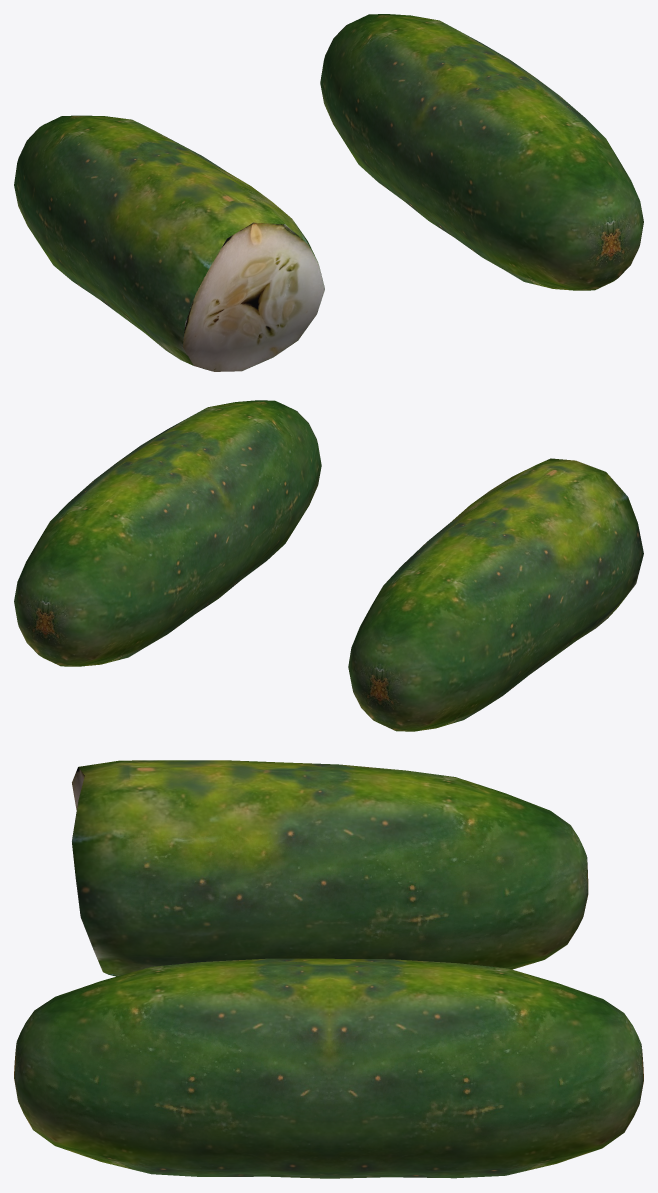
3 views of the same model, one above another, from view 1: azimuth 30°, elevation 25°; view 2: azimuth 150°, elevation 25°; view 3: azimuth 270°, elevation 25° (orthographic). The views are drawn at different scales.
Parts seen in each view (by area): view 1: ModPepinoCompleto, ModPepino; view 2: ModPepinoCompleto, ModPepino; view 3: ModPepinoCompleto, ModPepino.
Boxes of the visible parts, x1,y1,x2,y2 form: ModPepinoCompleto: [320, 14, 643, 290]; ModPepino: [14, 115, 324, 371]; ModPepinoCompleto: [14, 400, 321, 666]; ModPepino: [348, 458, 643, 731]; ModPepinoCompleto: [14, 958, 643, 1178]; ModPepino: [72, 760, 588, 976].
Size of the model in its own units: 0.5221 by 0.1751 by 0.4832.
Materials: 1 (1 with a texture image).
